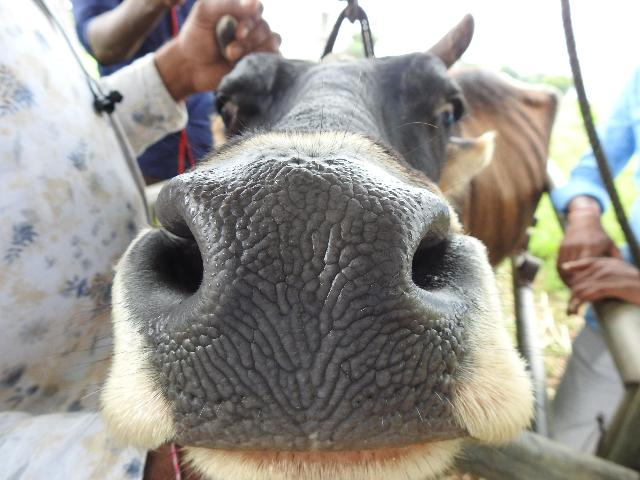Muzzle: (192, 176, 414, 420)
